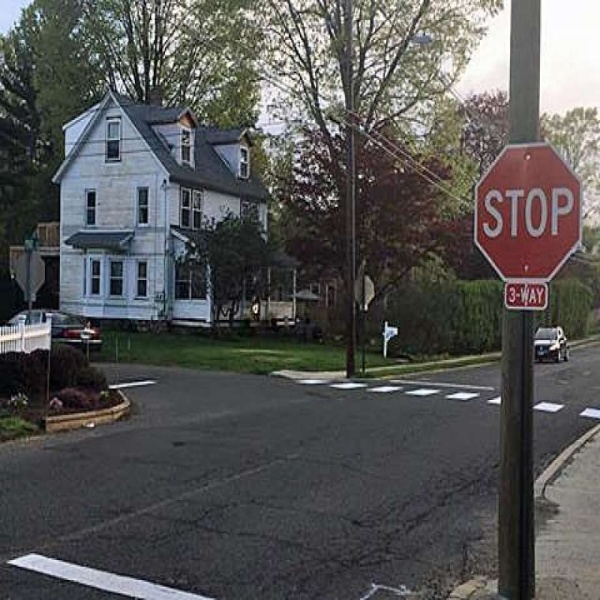stop: (475, 142, 578, 288)
